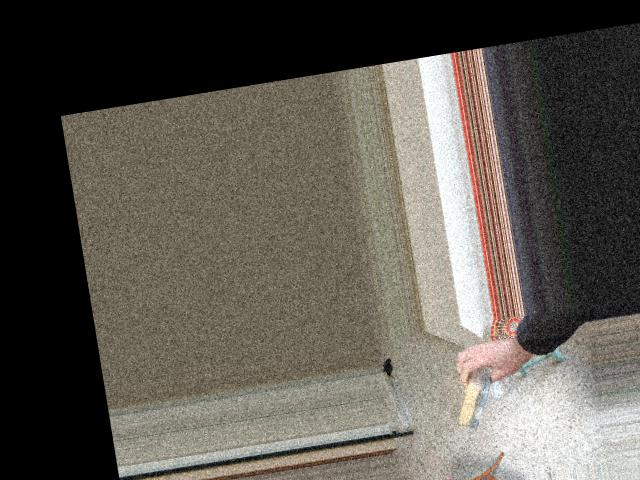cheese: (424, 333, 515, 439)
